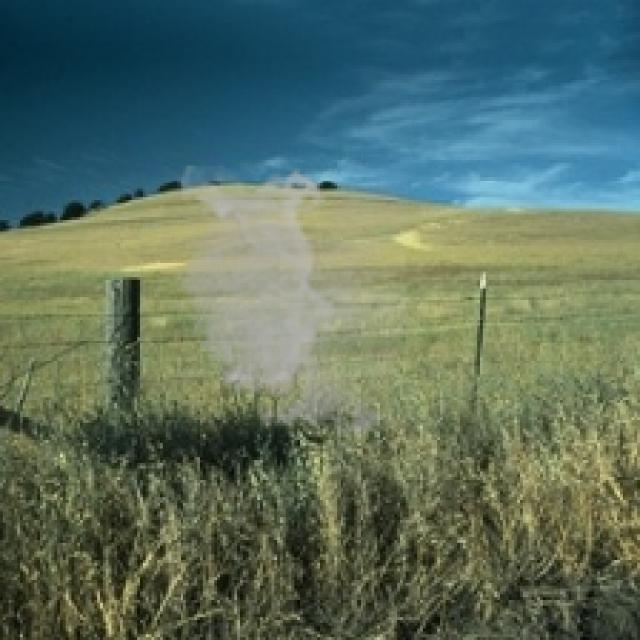Smoke: (165, 166, 408, 446)
